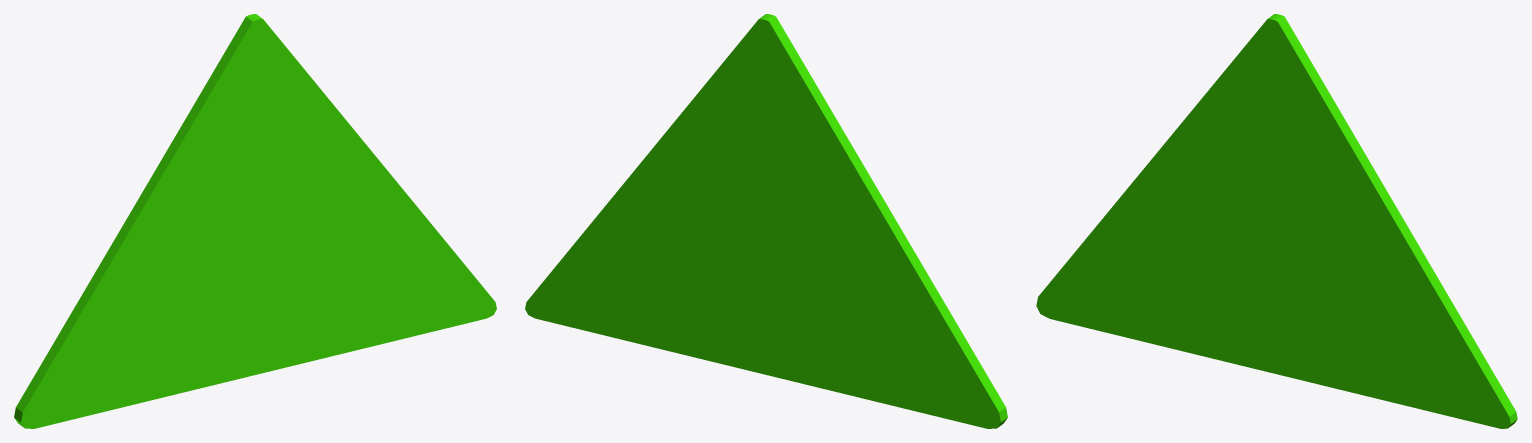
Rendered from TriangleShape.fbx.
3 renders of one model, left to right at view 1: azimuth 30°, elevation 25°; view 2: azimuth 150°, elevation 25°; view 3: azimuth 330°, elevation 25°, orthographic.
Parts seen in each view (by area): view 1: Cube.002; view 2: Cube.002; view 3: Cube.002.
Part boxes in pixels (box(x1,y1,x2,y2)): Cube.002: box(14, 14, 496, 428); Cube.002: box(525, 14, 1007, 428); Cube.002: box(1036, 14, 1517, 428).
Size of the model in its own units: 195 by 139 by 4.95.
